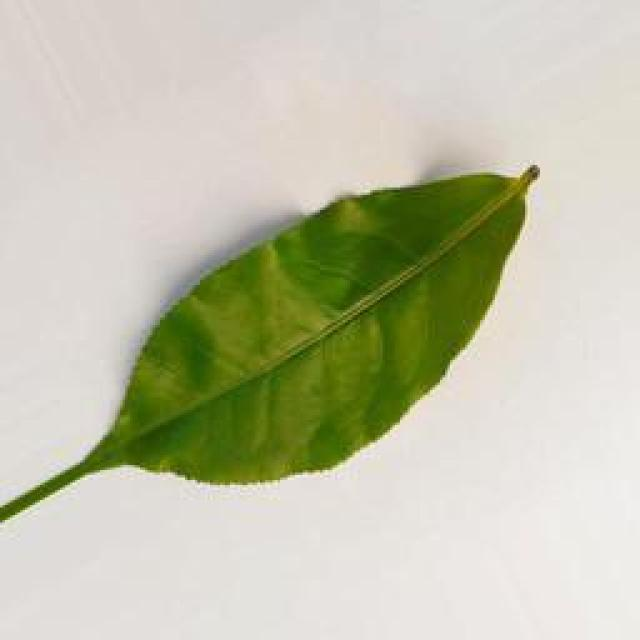Healthy: (78, 156, 562, 507)
